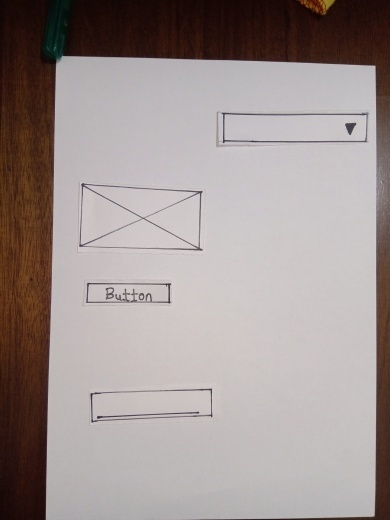button: (83, 283, 169, 305)
dropdown: (223, 116, 368, 145)
img: (81, 182, 202, 249)
text: (91, 389, 214, 416)
